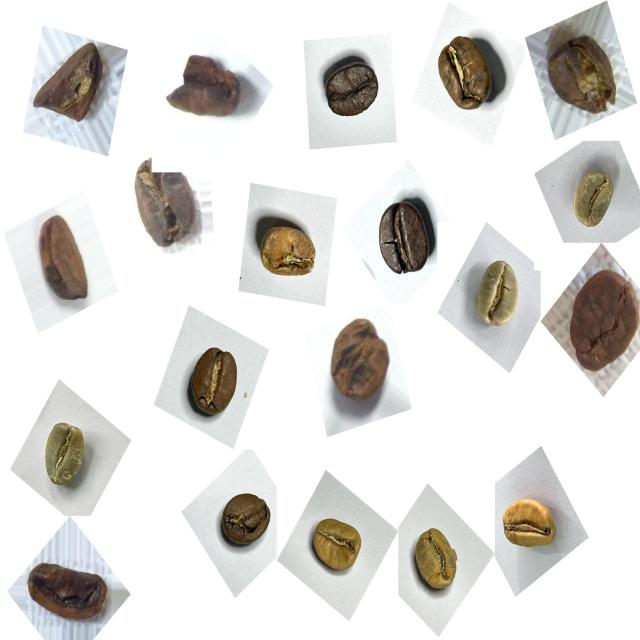bad: (556, 261, 638, 382), (28, 31, 116, 136), (538, 19, 623, 124), (320, 308, 398, 414), (125, 159, 208, 257), (162, 43, 250, 134), (23, 548, 115, 634), (28, 204, 99, 311)
dark: (362, 187, 439, 286), (316, 51, 390, 138)
green: (33, 414, 100, 501), (466, 253, 531, 341), (564, 159, 626, 239)
light: (249, 203, 326, 294), (492, 486, 564, 565), (302, 510, 373, 590), (404, 520, 469, 605)
medium: (423, 28, 504, 124), (176, 338, 250, 429), (212, 484, 277, 561)
